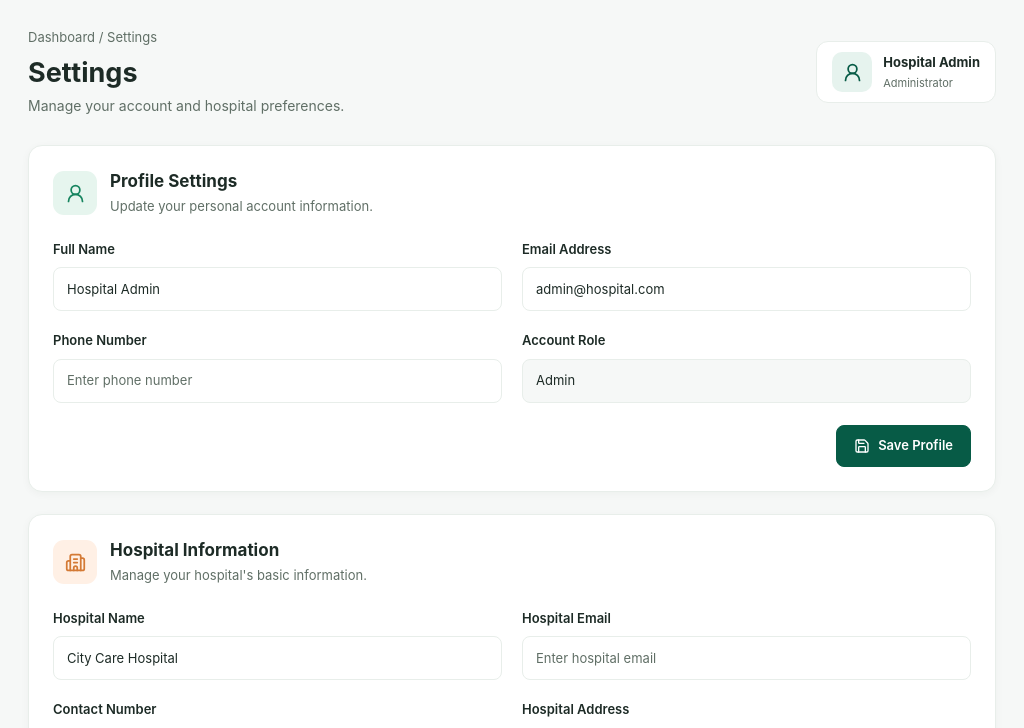
Test: Settings Component › saves updated profile information
The image size is (1024, 728).
Replace the text in the field labelled "Full Name" with "Test Admin" at x=278, y=289, box [53,267,502,311]
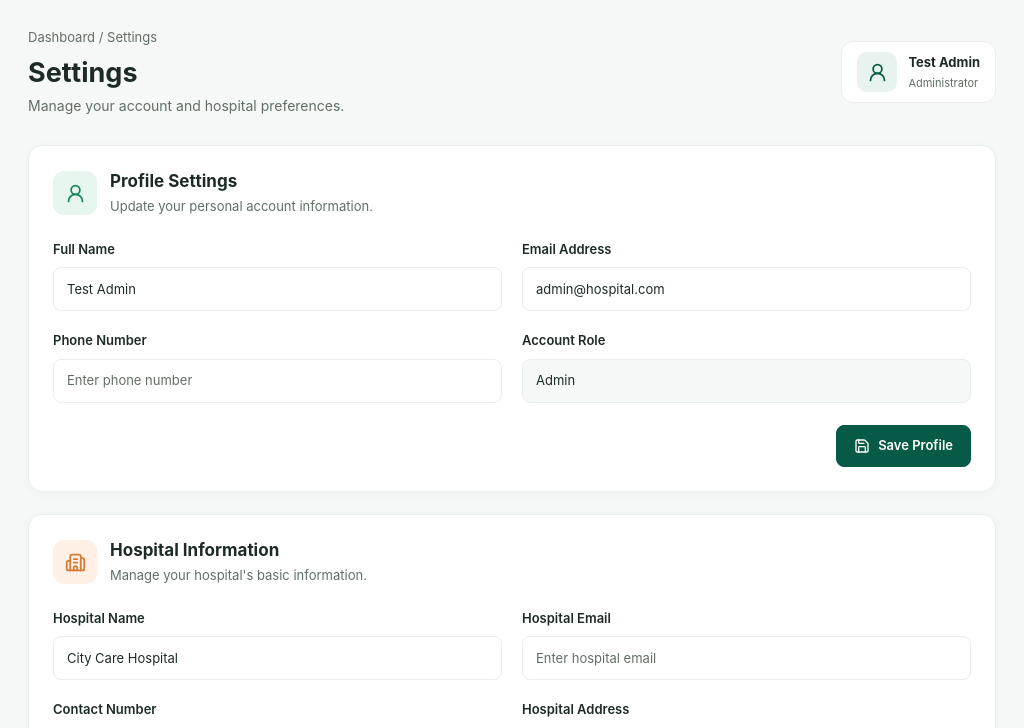
Click the button "Save Profile" at x=904, y=446, box [836,425,971,467]
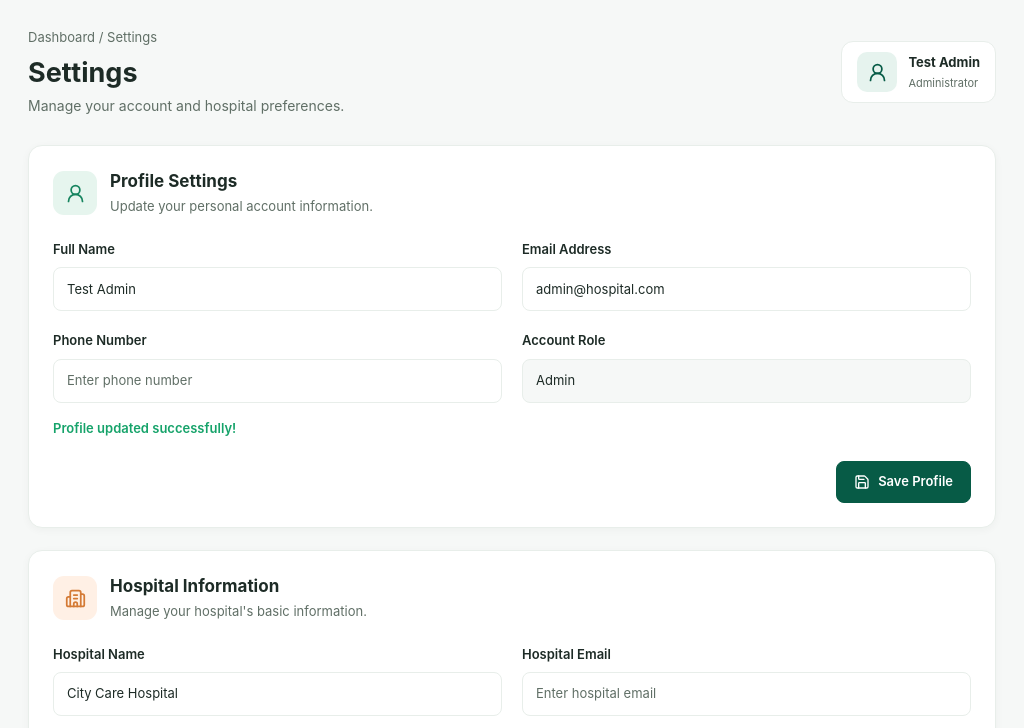
Result: the text "Profile updated successfully!" is shown at [53,420,236,436]
